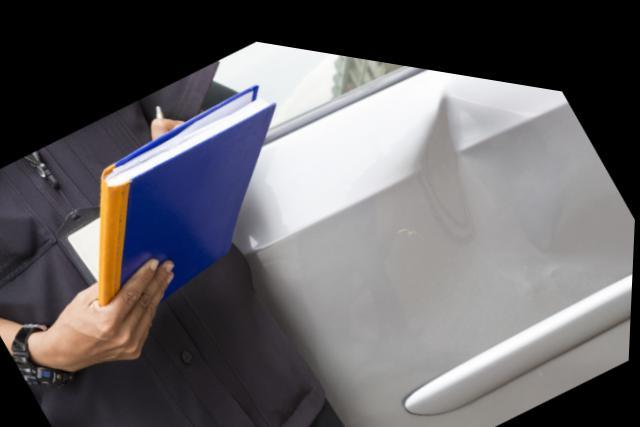dent: (418, 76, 568, 274)
